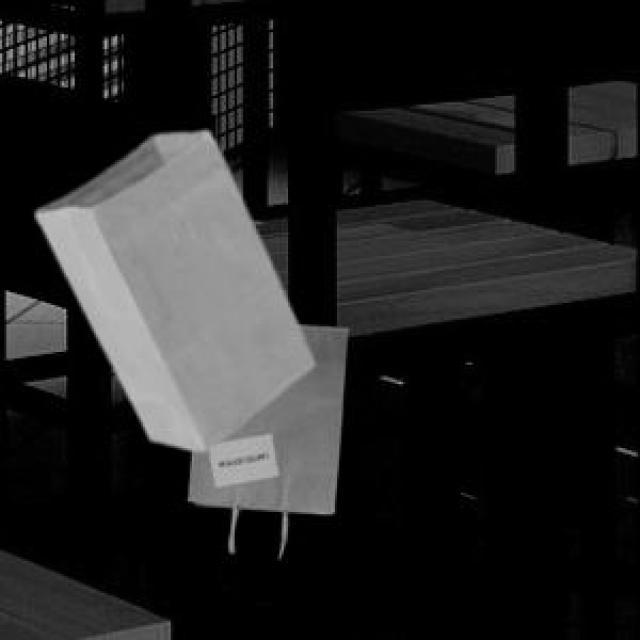paper: (32, 128, 309, 446), (184, 322, 342, 548)
